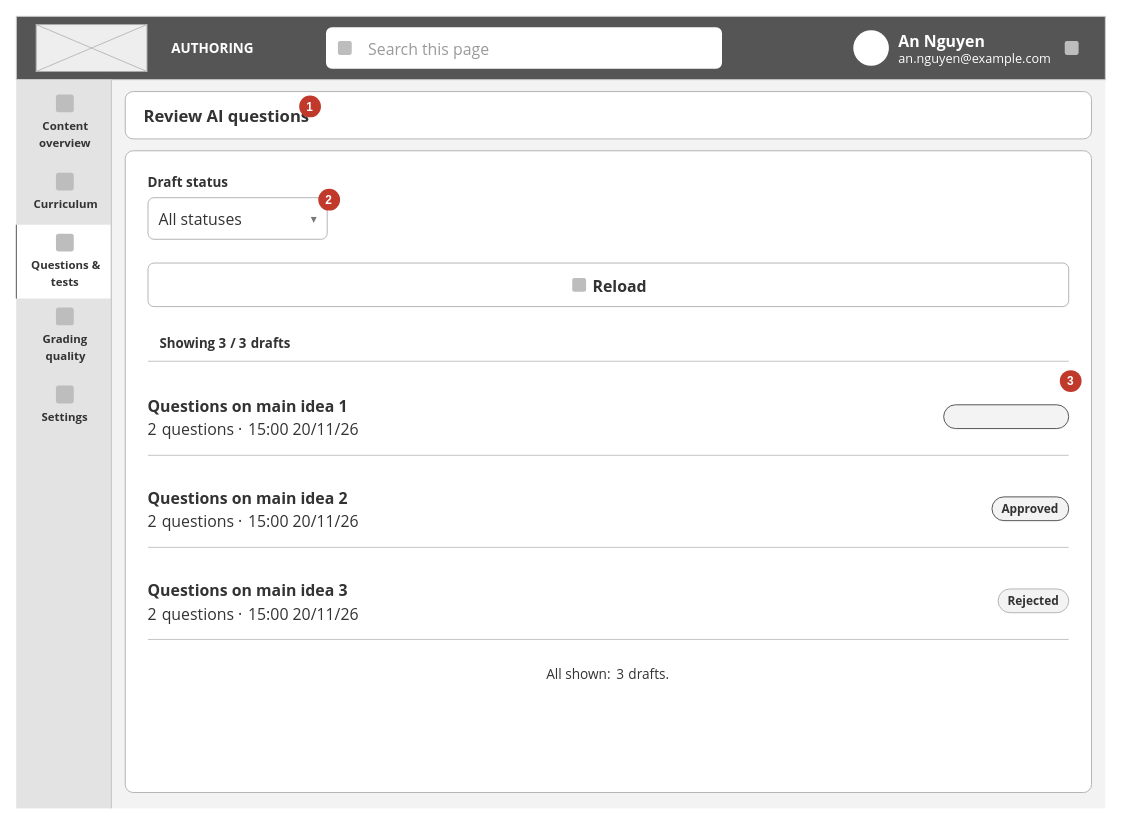
This 1122x825 diagram has some shape labels left out. The centre of each missing label's shape, as x and y in pixels:
AN: the point at 870,47
Waiting for review: the point at 1006,416
